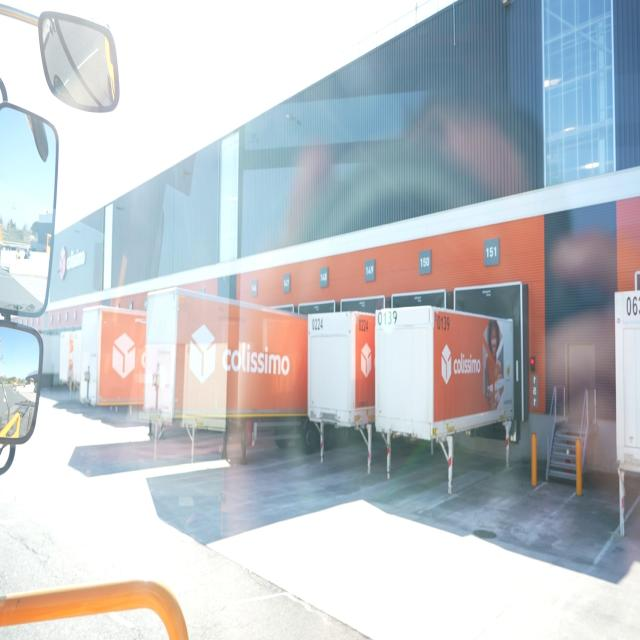Code: (375, 303, 399, 328), (434, 310, 453, 332), (309, 314, 326, 336)
